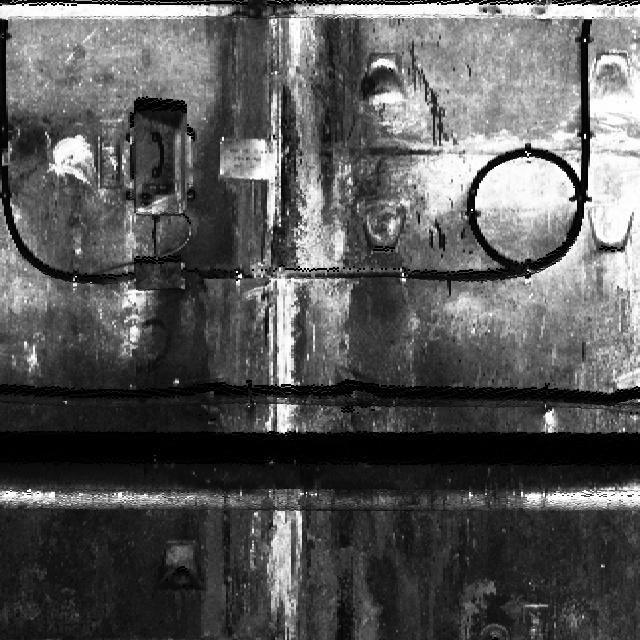leakage: (102, 0, 506, 637)
